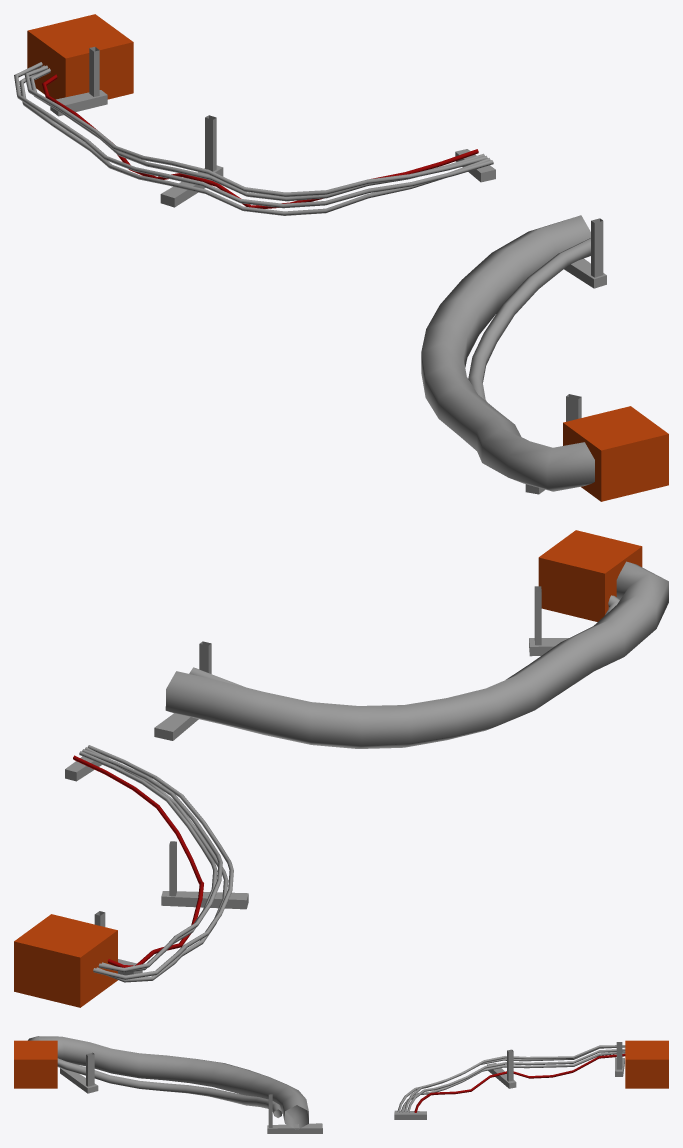
The model's file is way construct cable end R.FBX.
The picture shows the model from 3 angles, top to bottom: view 1: azimuth 30°, elevation 25°; view 2: azimuth 150°, elevation 25°; view 3: azimuth 270°, elevation 25°; orthographic projection. The views are drawn at different scales.
Visible parts, largest first — view 1: cable other005; view 2: cable other005; view 3: cable other005.
Boxes of the visible parts, box(x1,y1,x2,y2) form: cable other005: box(14, 14, 668, 501); cable other005: box(14, 530, 668, 1007); cable other005: box(14, 1036, 668, 1133).
Size of the model in its own units: 2.03 by 0.6197 by 7.12.
